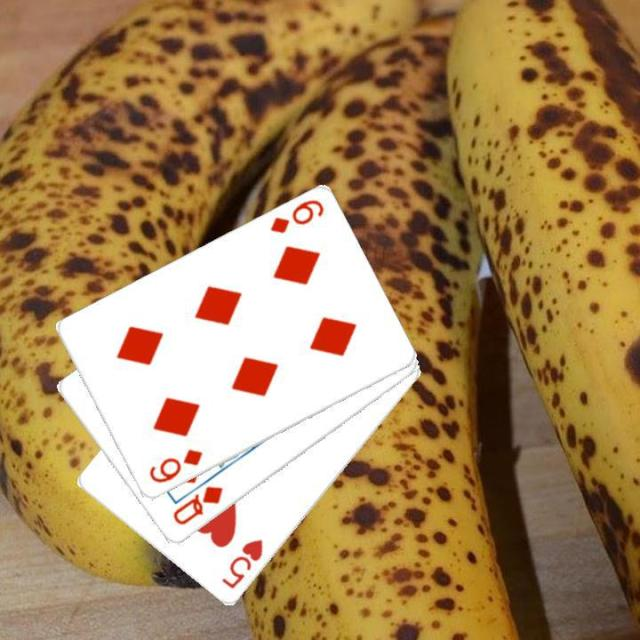5H: (217, 535, 265, 592)
6D: (266, 196, 326, 237), (145, 446, 204, 486)
QD: (168, 482, 225, 528)
